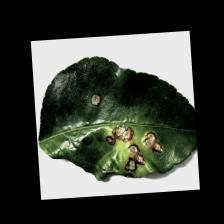canker: (84, 89, 174, 187)
